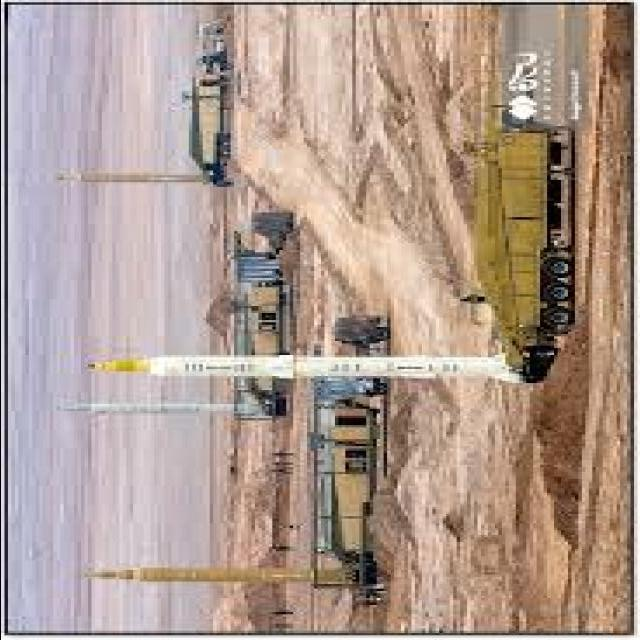Missile: (82, 348, 525, 383)
